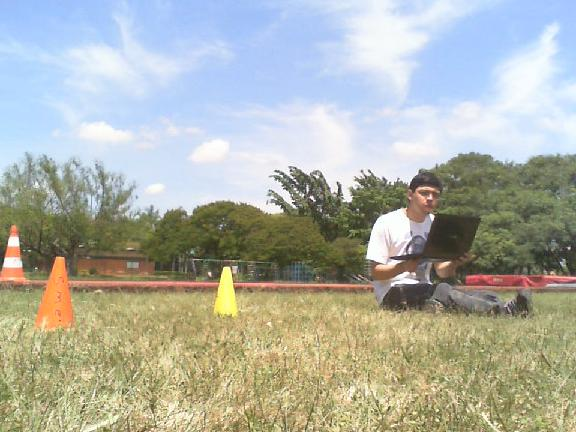0 cone: (24, 257, 82, 337), (0, 224, 32, 282), (212, 266, 240, 318)
